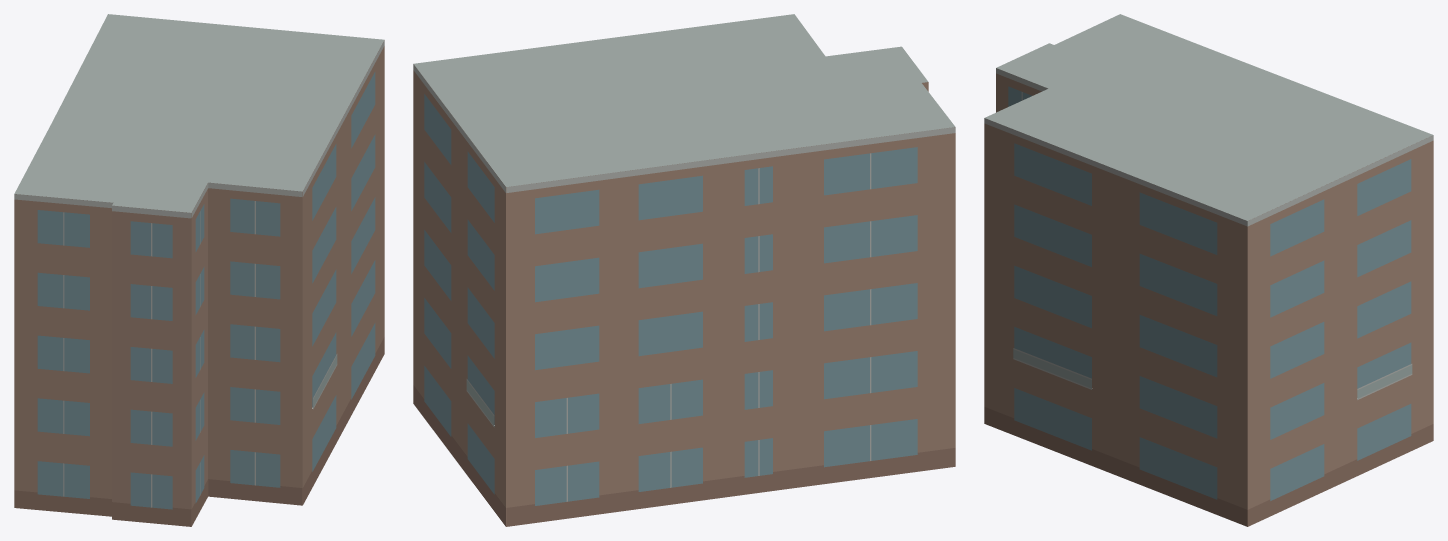
The model's file is survey-upis-32991179.glb.
3 views of the same model, side by side, from view 1: azimuth 30°, elevation 25°; view 2: azimuth 150°, elevation 25°; view 3: azimuth 270°, elevation 25° (orthographic). The views are drawn at different scales.
Visible parts, largest first — view 1: survey-upis-32991179.tmp; view 2: survey-upis-32991179.tmp; view 3: survey-upis-32991179.tmp.
Part boxes in pixels (left/top/right/bottom): survey-upis-32991179.tmp: left=14, top=14, right=384, bottom=526; survey-upis-32991179.tmp: left=413, top=14, right=955, bottom=526; survey-upis-32991179.tmp: left=984, top=14, right=1433, bottom=526.
Size of the model in its own units: 19.9 by 13.7 by 18.24.
